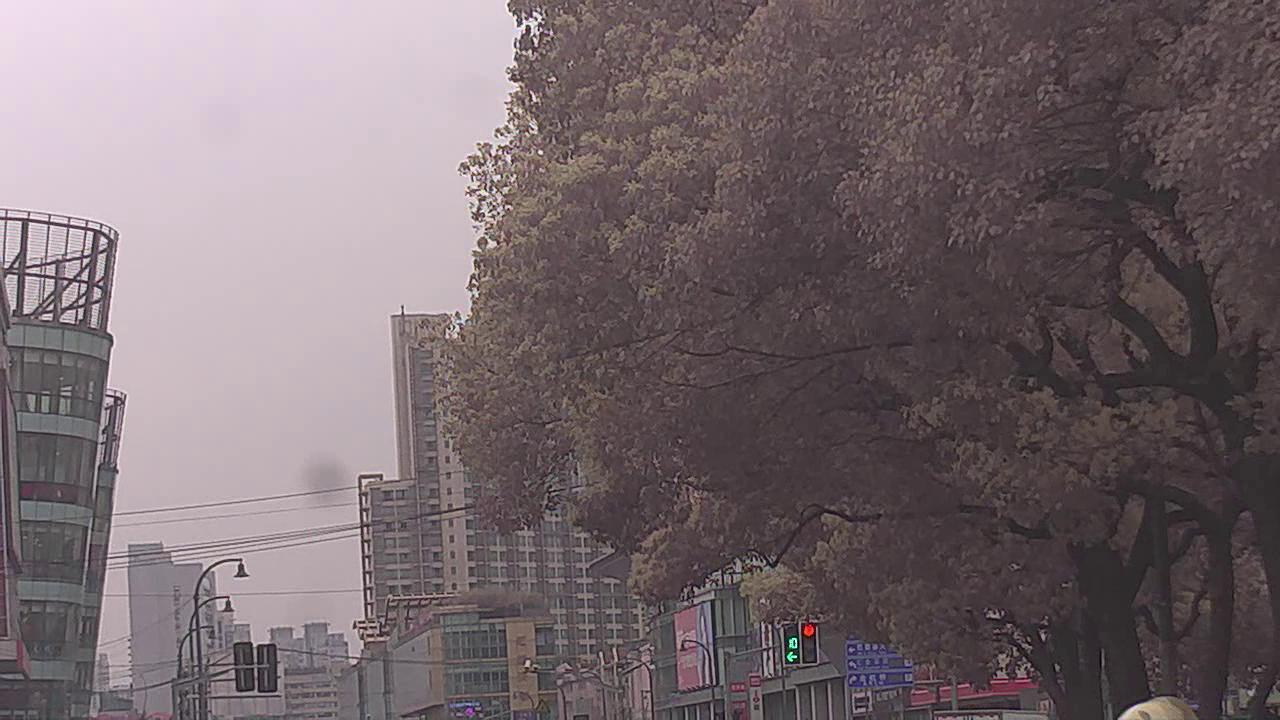traffic_light: (802, 622, 822, 660), (782, 623, 800, 662)
